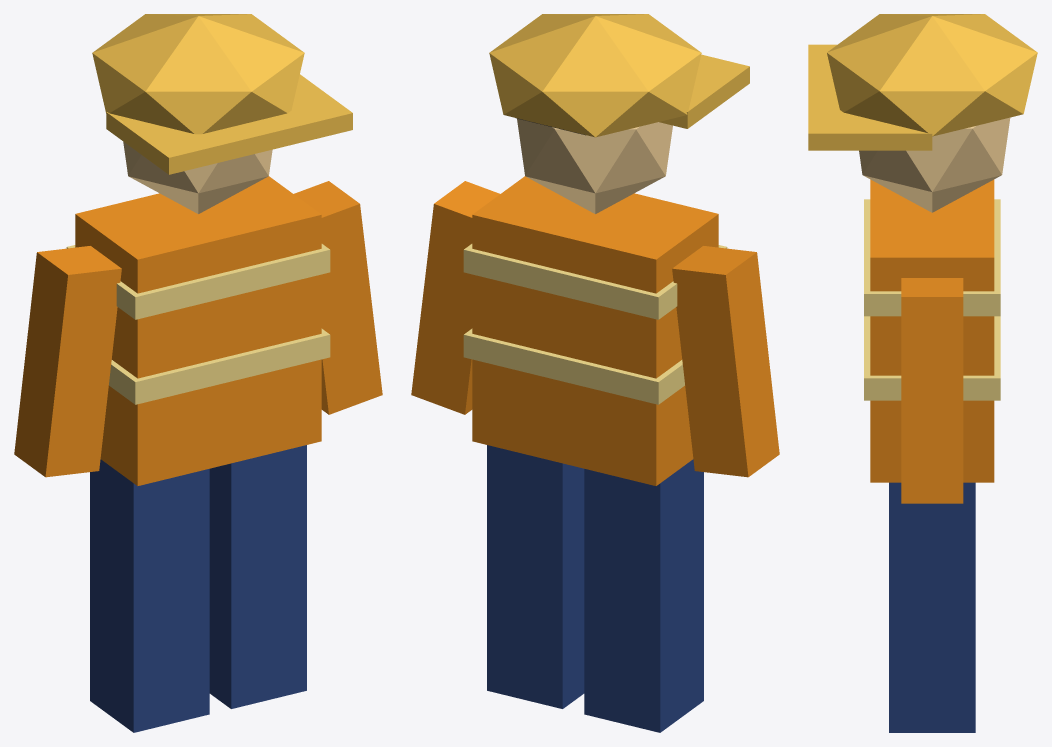
File: people_worker.glb
3 renders of one model, left to right at view 1: azimuth 30°, elevation 25°; view 2: azimuth 150°, elevation 25°; view 3: azimuth 270°, elevation 25°, orthographic.
Visible parts, largest first — view 1: people_worker; view 2: people_worker; view 3: people_worker.
Part boxes in pixels (x1=…): people_worker: x1=14, y1=14, x2=382, y2=732; people_worker: x1=411, y1=14, x2=779, y2=732; people_worker: x1=808, y1=14, x2=1037, y2=732.
Bounding box in the file's own units: 0.0623 × 0.12 × 0.037.
